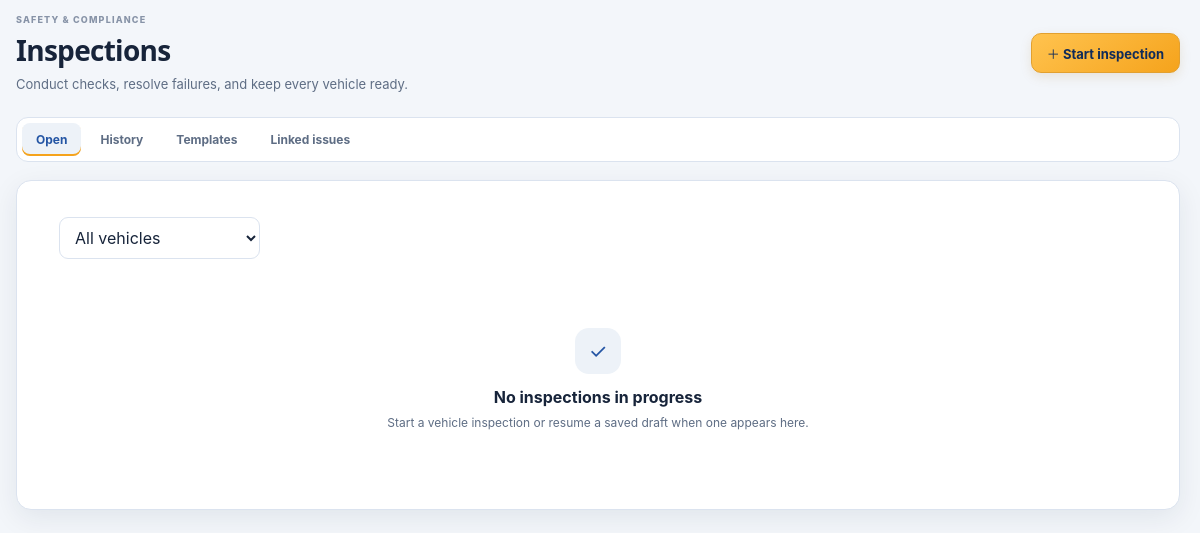
Scenario: Inspections workspace › shows the seeded pre-trip template and template administration
Expected: the heading "Inspections" is shown, [16, 31, 170, 69]
Click the button "Templates": click(207, 140) [162, 123, 251, 156]
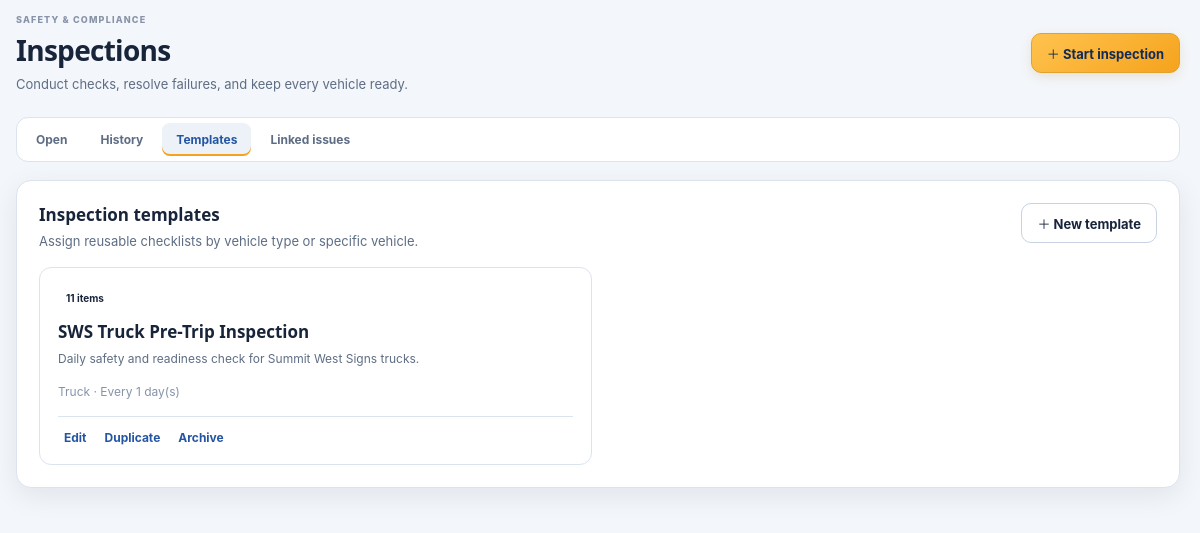
Expected: the heading "SWS Truck Pre-Trip Inspection" is shown, [58, 320, 309, 343]
Expected: the button with aria-label "Duplicate SWS Truck Pre-Trip Inspection" is shown, [98, 429, 166, 446]
Expected: the button with aria-label "Edit SWS Truck Pre-Trip Inspection" is shown, [58, 429, 92, 446]
